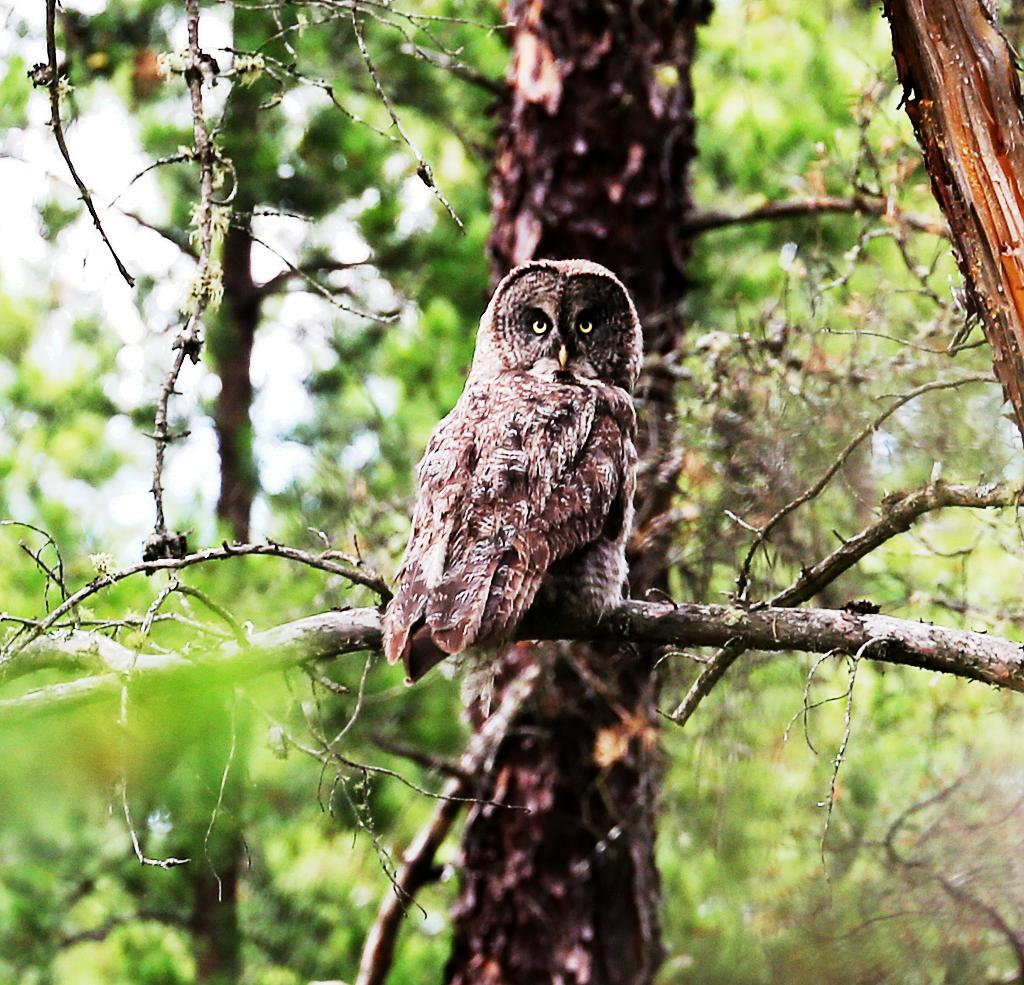Owl: (377, 255, 647, 688)
